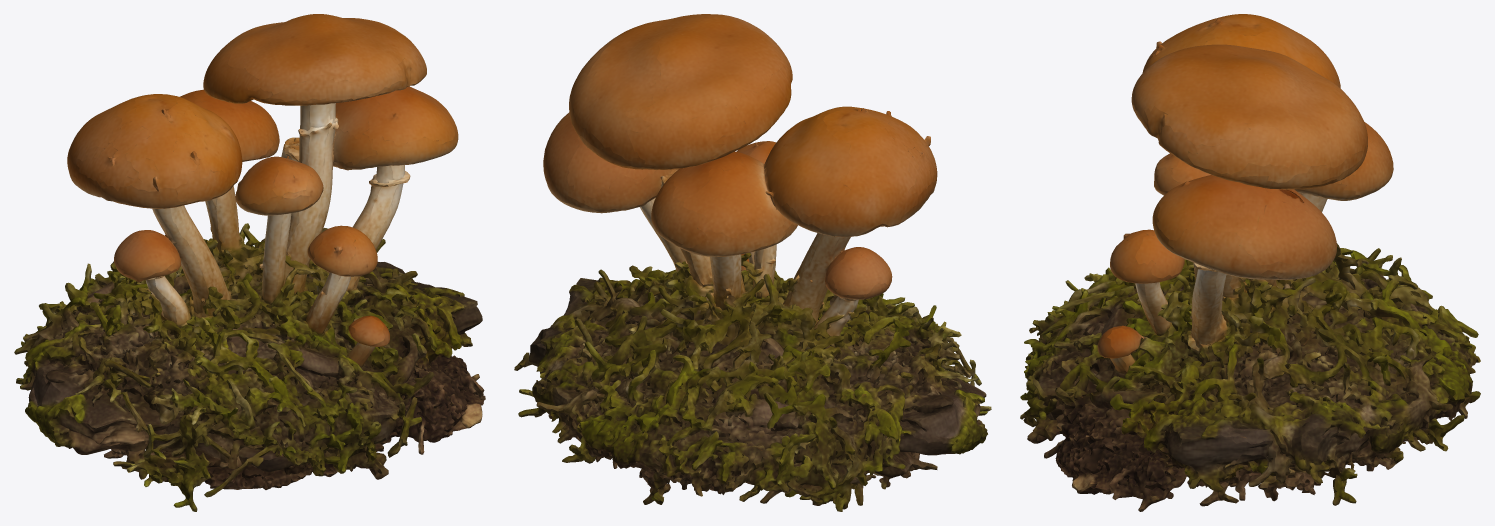
The model's file is task-4897447.glb.
3 renders of one model, left to right at view 1: azimuth 30°, elevation 25°; view 2: azimuth 150°, elevation 25°; view 3: azimuth 270°, elevation 25°, orthographic. The views are drawn at different scales.
Visible parts, largest first — view 1: world; view 2: world; view 3: world.
Boxes of the visible parts, box(x1,y1,x2,y2) form: world: box(14, 14, 485, 511); world: box(514, 14, 991, 511); world: box(1020, 14, 1480, 511).
Bounding box in the file's own units: 0.18 × 0.159 × 0.1644.
Materials: 1 (1 with a texture image).
